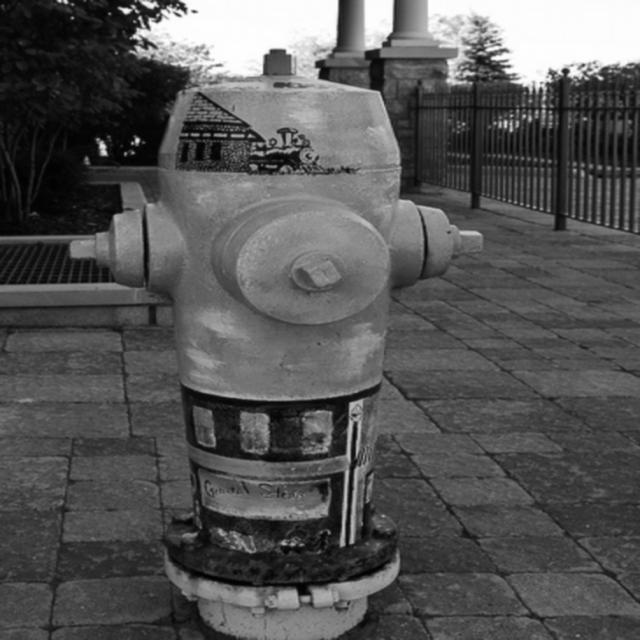fire_hydrant: (70, 73, 482, 637)
